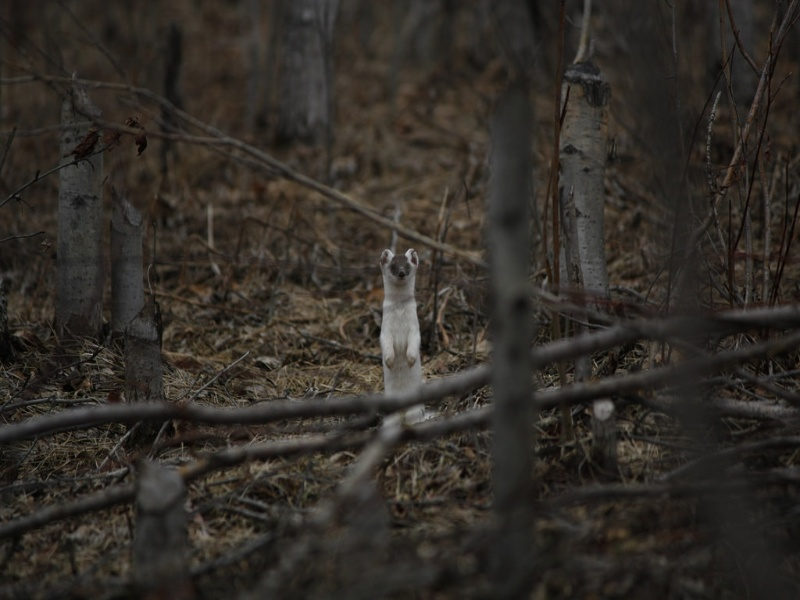minkish: (375, 245, 436, 438)
